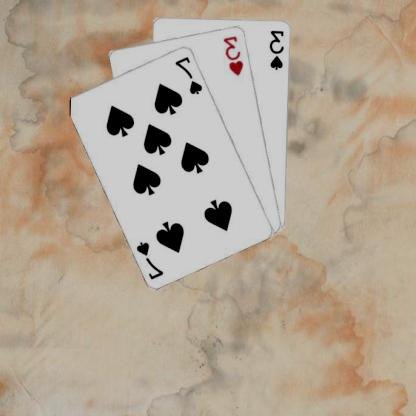3H: (223, 34, 246, 76)
3S: (270, 28, 288, 70)
7S: (174, 53, 206, 96), (136, 238, 167, 281)
